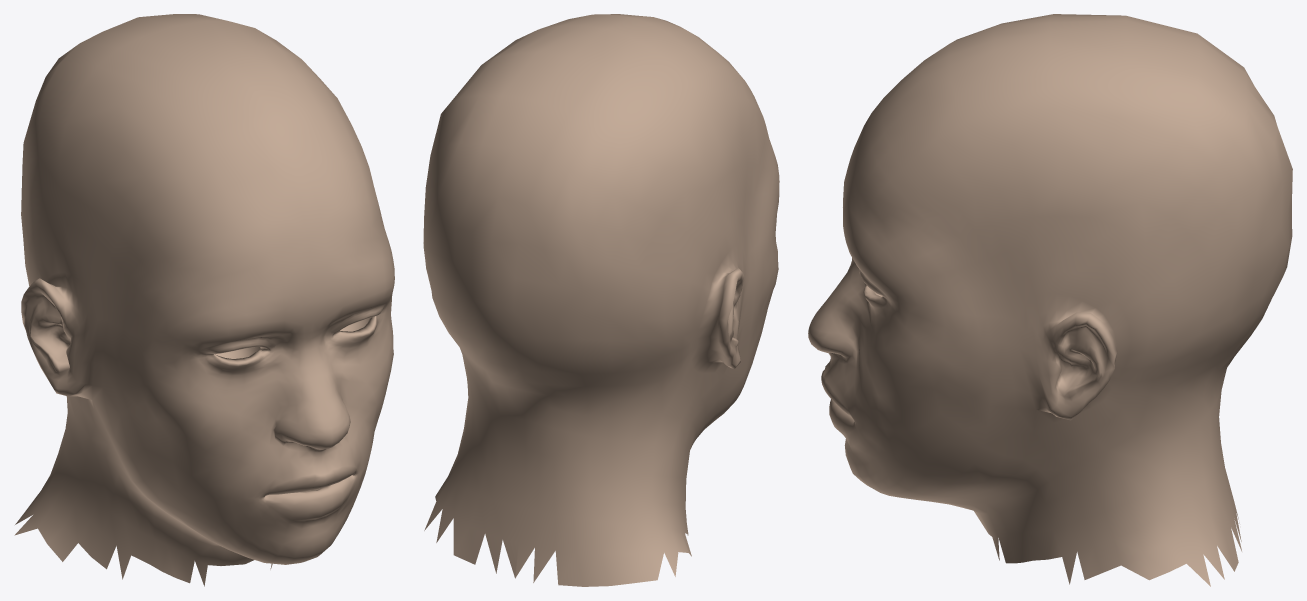
File: head.glb
3 renders of one model, left to right at view 1: azimuth 30°, elevation 25°; view 2: azimuth 150°, elevation 25°; view 3: azimuth 270°, elevation 25°, orthographic. The views are drawn at different scales.
Visible parts, largest first — view 1: base_humanMesh_base_human_0.005; view 2: base_humanMesh_base_human_0.005; view 3: base_humanMesh_base_human_0.005.
Part boxes in pixels (bbox=[...]): base_humanMesh_base_human_0.005: bbox=[14, 14, 394, 586]; base_humanMesh_base_human_0.005: bbox=[423, 14, 779, 586]; base_humanMesh_base_human_0.005: bbox=[808, 14, 1292, 586].
Size of the model in its own units: 0.1925 by 0.2891 by 0.2475.
